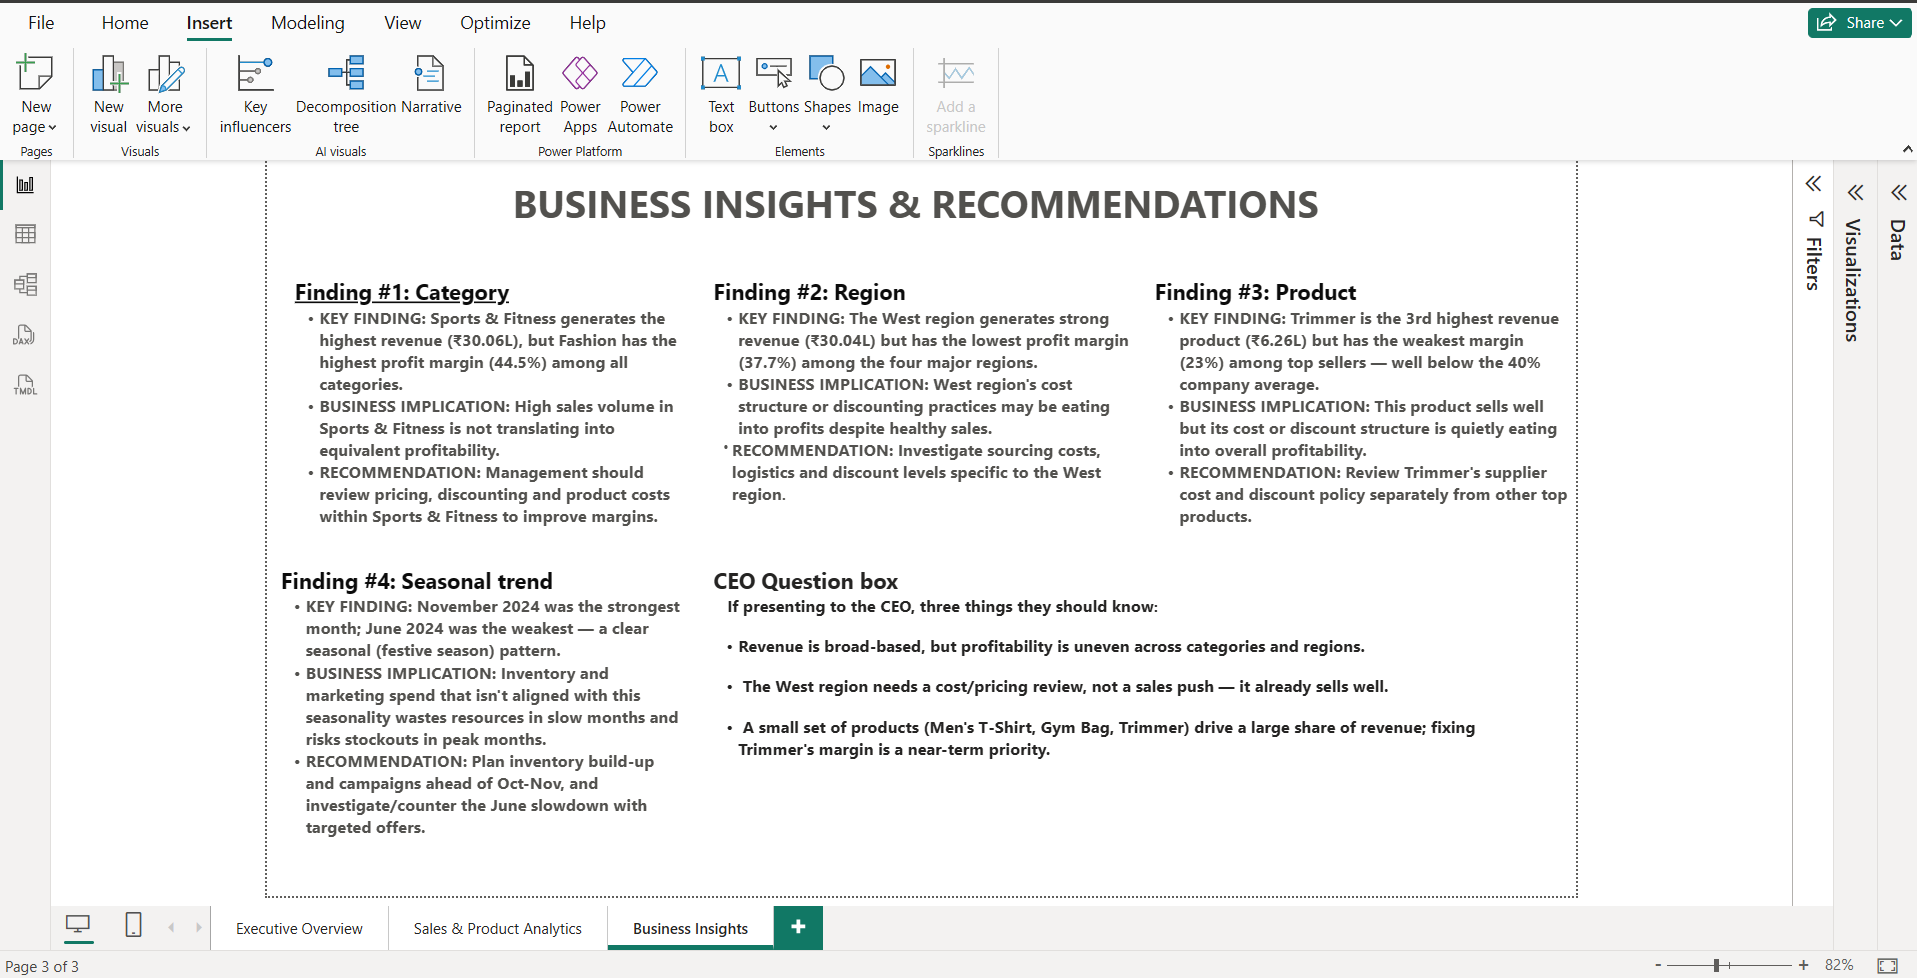

The page's visual inventory and layout, read from the dashboard file:
{"tool":"powerbi","page":{"name":"Business Insights","canvas":[1280,720],"ordinal":2},"visuals":[{"type":"textbox","box":[9.8,12.2,1260.7,77],"z":0},{"type":"textbox","box":[23.2,108.8,393.8,259.2],"z":1000},{"type":"textbox","box":[9.8,391.3,407.2,299.6],"z":2000},{"type":"textbox","box":[432.9,108.8,431.7,259.2],"z":3000},{"type":"textbox","box":[864.5,108.8,415.8,259.2],"z":4000},{"type":"textbox","box":[432.9,391.3,837.6,299.6],"z":5000}]}

Visuals, with their boxes on the page's 1280x720 design canvas (x1, y1, x2, y2). These are canvas units, not pixel positions in the 1917x978 screenshot, which may show the page scaled, cropped or inside an application window:
textbox: {"left": 10, "top": 12, "right": 1270, "bottom": 89}
textbox: {"left": 23, "top": 109, "right": 417, "bottom": 368}
textbox: {"left": 10, "top": 391, "right": 417, "bottom": 691}
textbox: {"left": 433, "top": 109, "right": 865, "bottom": 368}
textbox: {"left": 864, "top": 109, "right": 1280, "bottom": 368}
textbox: {"left": 433, "top": 391, "right": 1270, "bottom": 691}
